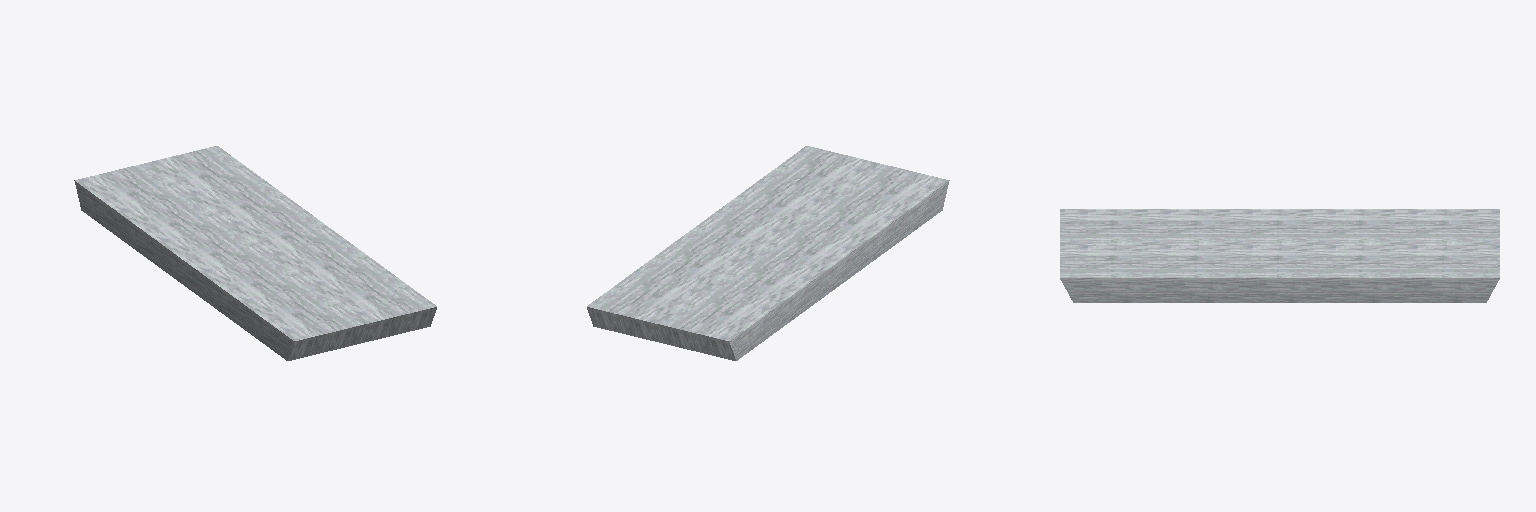
3 renders of one model, left to right at view 1: azimuth 30°, elevation 25°; view 2: azimuth 150°, elevation 25°; view 3: azimuth 270°, elevation 25°, orthographic.
Visible parts, largest first — view 1: world_root; view 2: world_root; view 3: world_root.
Boxes of the visible parts, x1=… form: world_root: x1=74, y1=146, x2=436, y2=360; world_root: x1=587, y1=146, x2=949, y2=360; world_root: x1=1060, y1=209, x2=1499, y2=302.
Bounding box in the file's own units: 75 × 12.5 × 200.
1 materials, 1 textured.